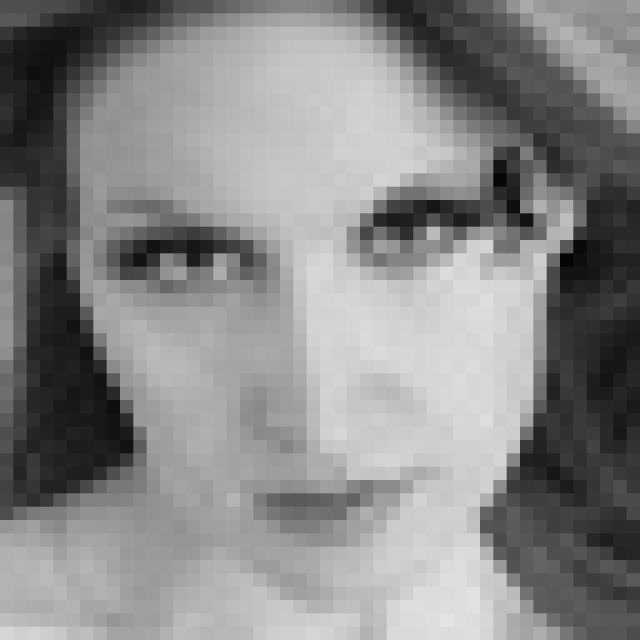neutral: (88, 155, 534, 556)
